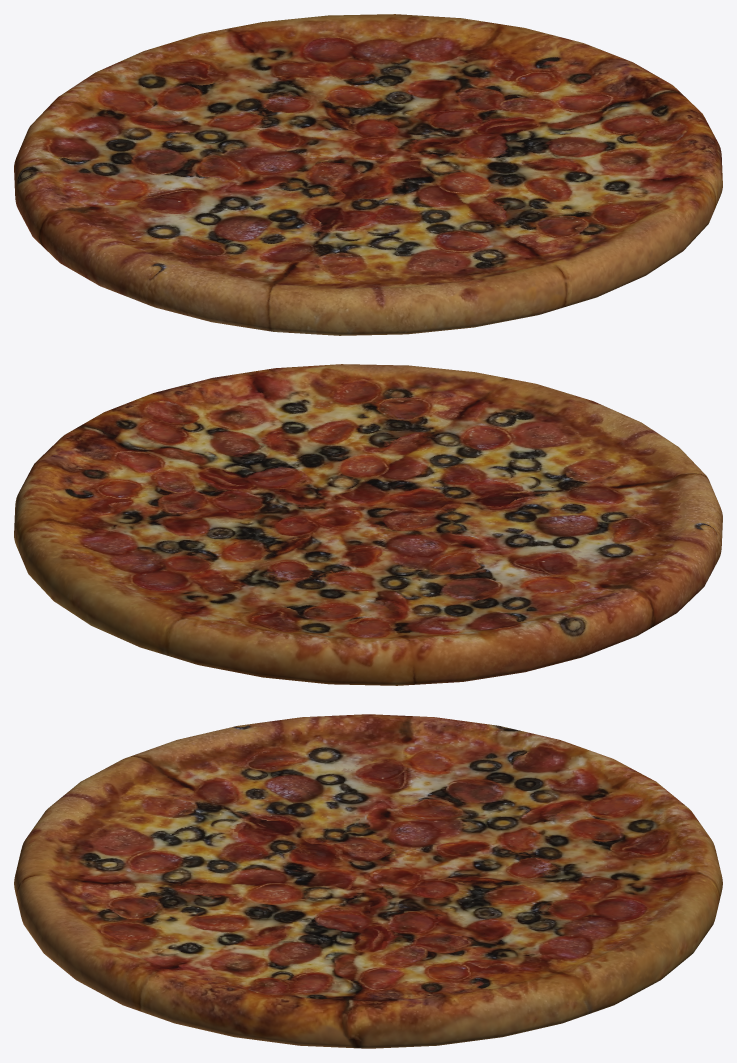
File: Pizza.fbx
3 renders of one model, top to bottom at view 1: azimuth 30°, elevation 25°; view 2: azimuth 150°, elevation 25°; view 3: azimuth 270°, elevation 25°, orthographic.
Visible parts, largest first — view 1: Pizza; view 2: Pizza; view 3: Pizza.
Boxes of the visible parts, box(x1,y1,x2,y2) form: Pizza: box(14, 14, 722, 335); Pizza: box(14, 364, 722, 685); Pizza: box(14, 714, 722, 1048).
Bounding box in the file's own units: 11667 × 706 × 11317.
1 material, 1 textured.
